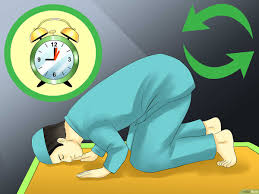sujud: (29, 53, 237, 179)
